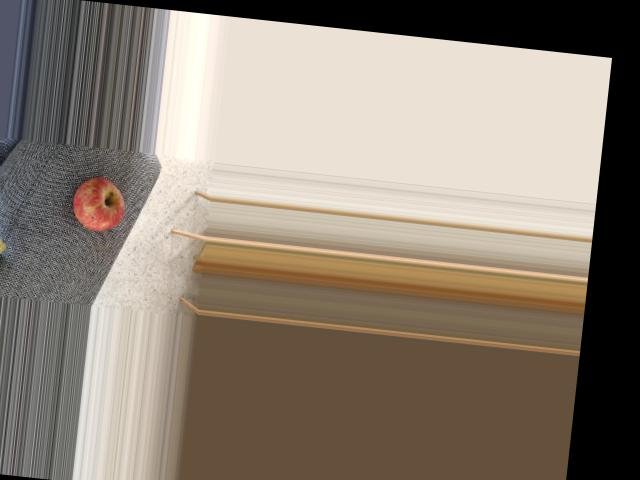apple: (65, 171, 130, 234)
